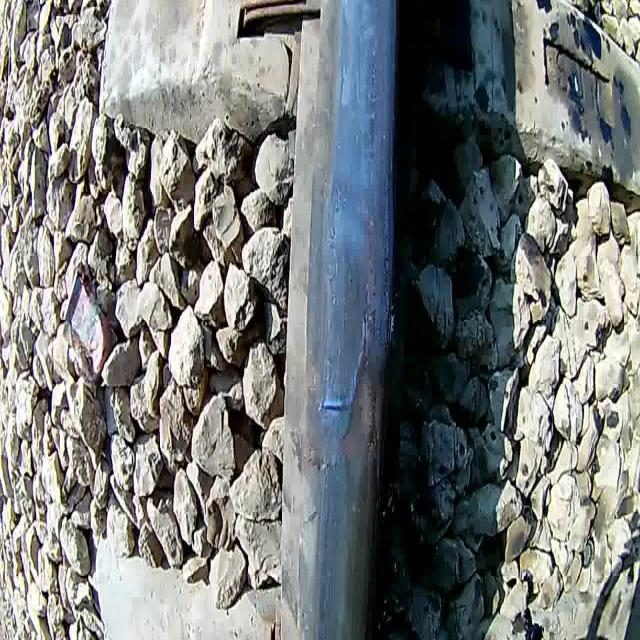Spallings: (298, 444, 348, 485)
Squats: (299, 238, 375, 409), (329, 302, 387, 508)
